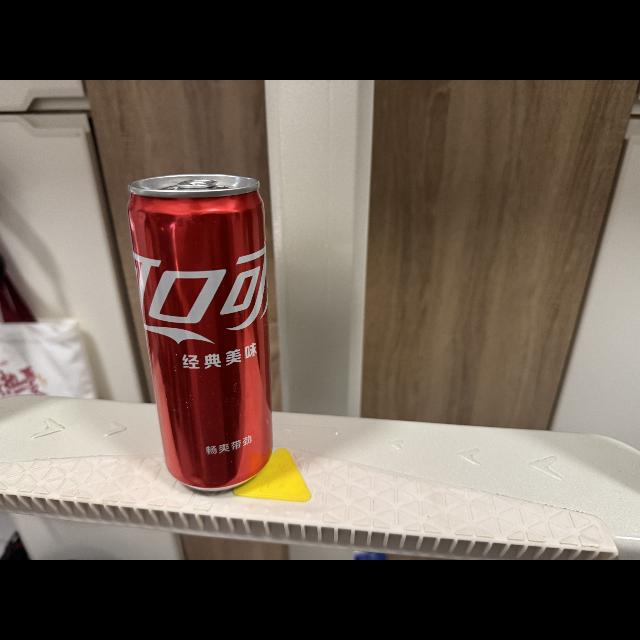Cola: (119, 170, 289, 500)
